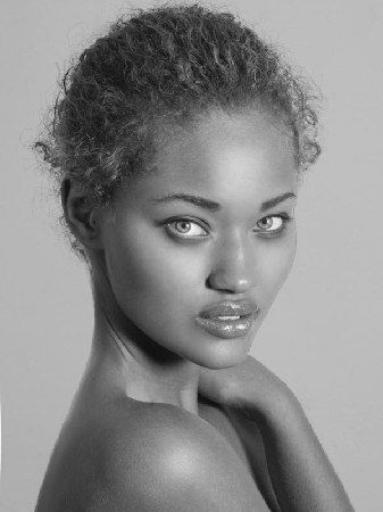left_eye: (253, 213, 291, 238)
left_lip_corner: (252, 303, 263, 319)
right_eye: (156, 214, 213, 243)
right_lip_corner: (194, 309, 211, 330)
